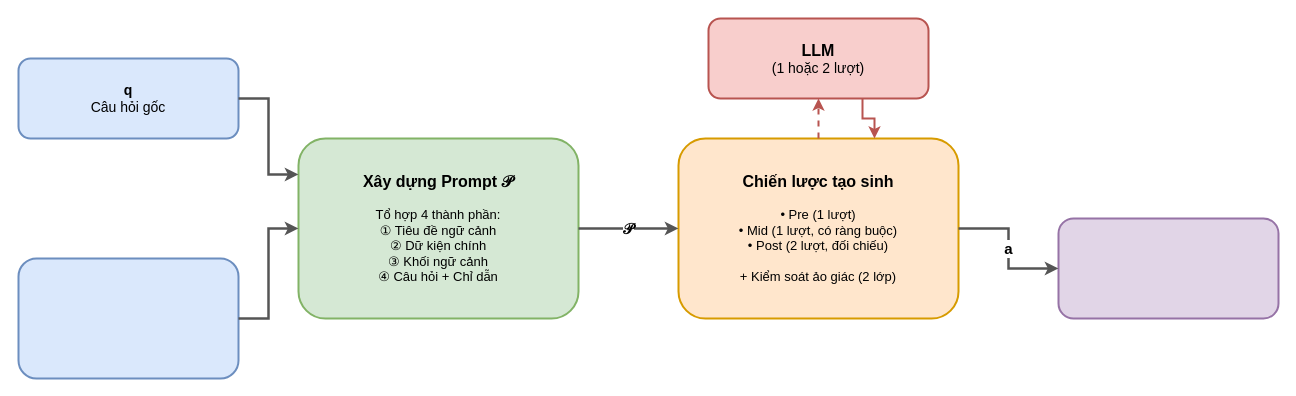
Image size: 1296x396. Some labels were removed from this diagram. Each missing label, with the centre of its shape:
"(C, K) Ngữ cảnh đã định dạng + Tập dữ kiện chính" goes at (x=128, y=318).
"a Câu trả lời" goes at (x=1168, y=268).
